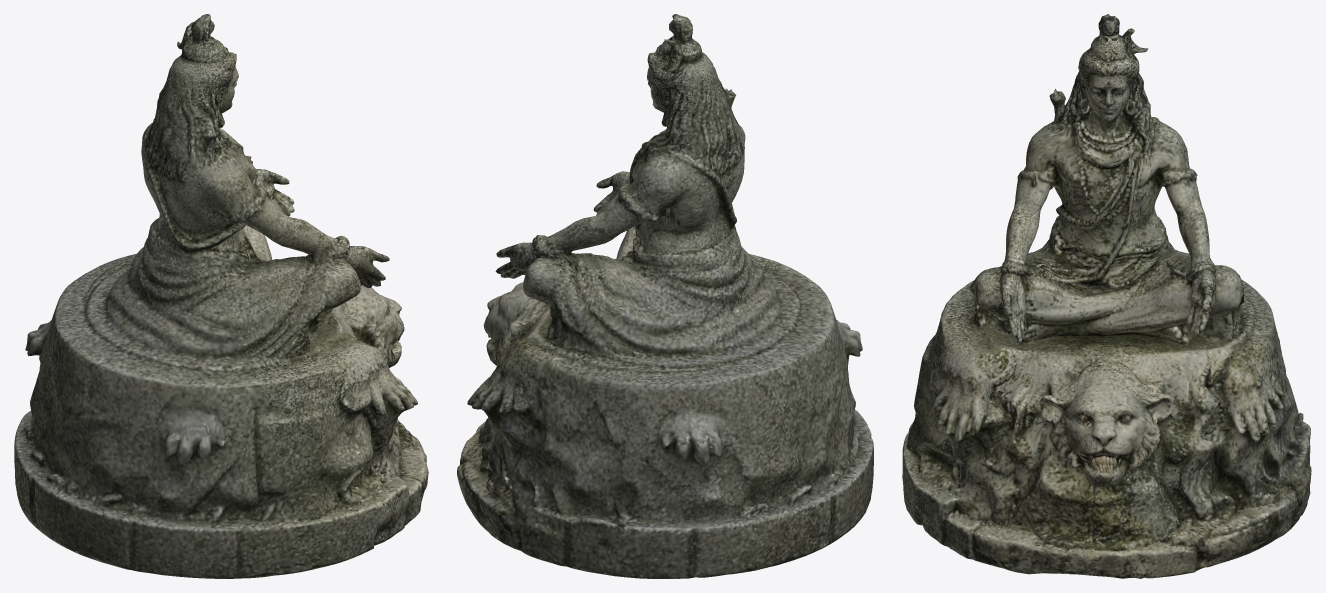
File: tripo_convert_34111824-9c61-43b5-a74d-e127f8db195a.fbx
3 views of the same model, side by side, from view 1: azimuth 30°, elevation 25°; view 2: azimuth 150°, elevation 25°; view 3: azimuth 270°, elevation 25° (orthographic).
Visible parts, largest first — view 1: tripo_node_34111824; view 2: tripo_node_34111824; view 3: tripo_node_34111824.
Part boxes in pixels (x1,y1,x2,y2): tripo_node_34111824: (14,14,428,578); tripo_node_34111824: (457,14,873,578); tripo_node_34111824: (902,14,1311,578).
Size of the model in its own units: 0.7787 by 0.9976 by 0.7775.
Materials: 1 (1 with a texture image).
